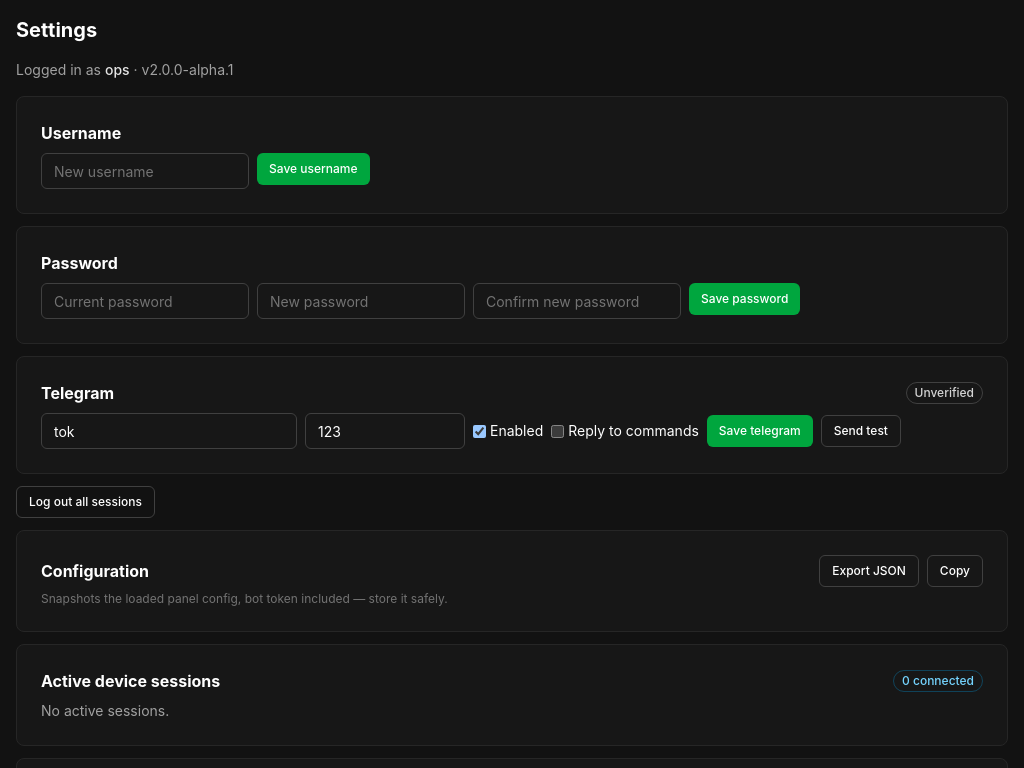
web settings page › toasts saves and parks server sections as dummies
Type "ops2" into the field with placeholder "New username" at (145, 171), box [41,153,249,189]
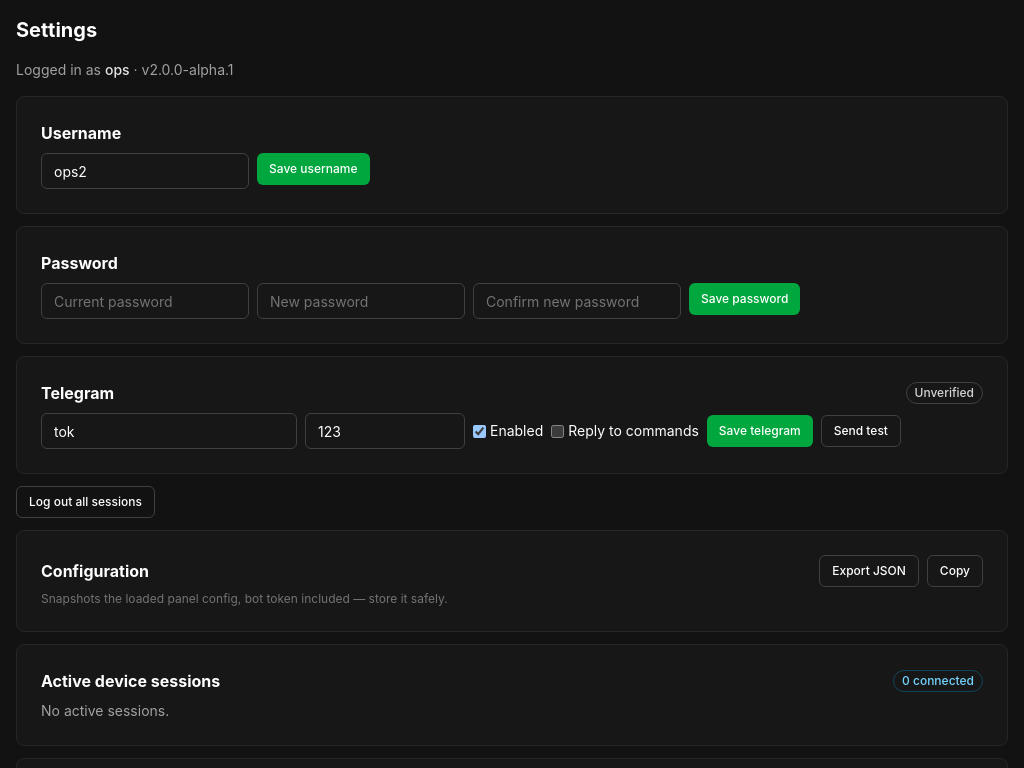
Click the button "Save username" at (313, 169), box [257,153,370,185]
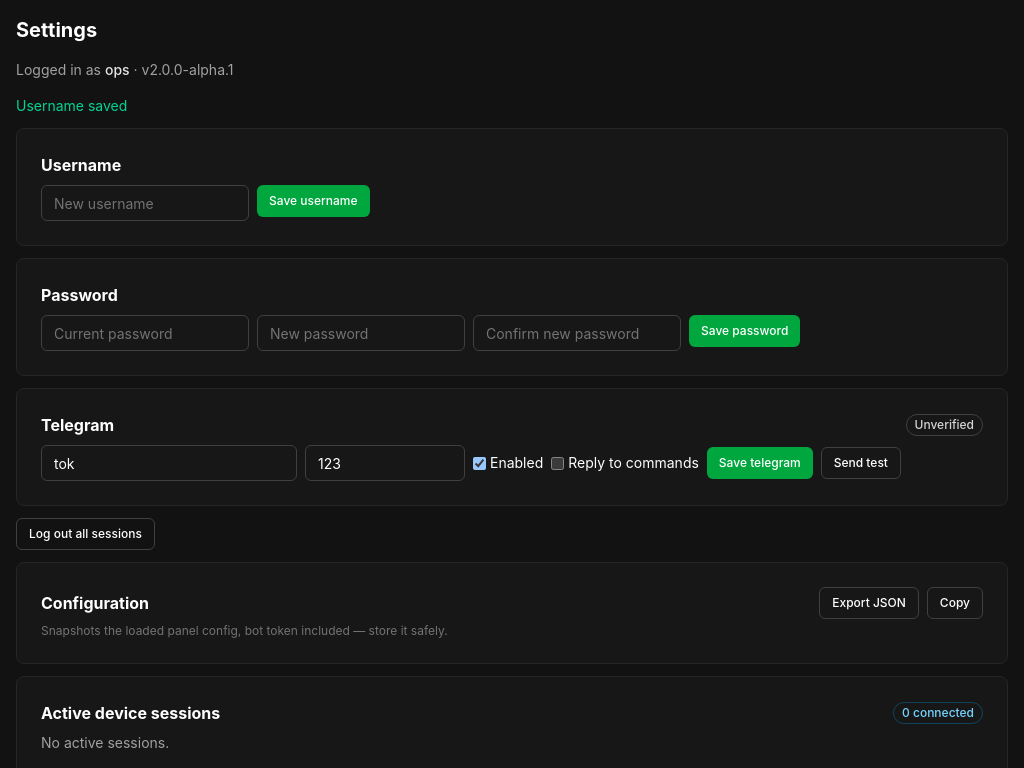
Check: the message reads "Username saved", box [16,97,127,114]
Click the button "Save telegram" at (760, 463), box [707,447,813,479]
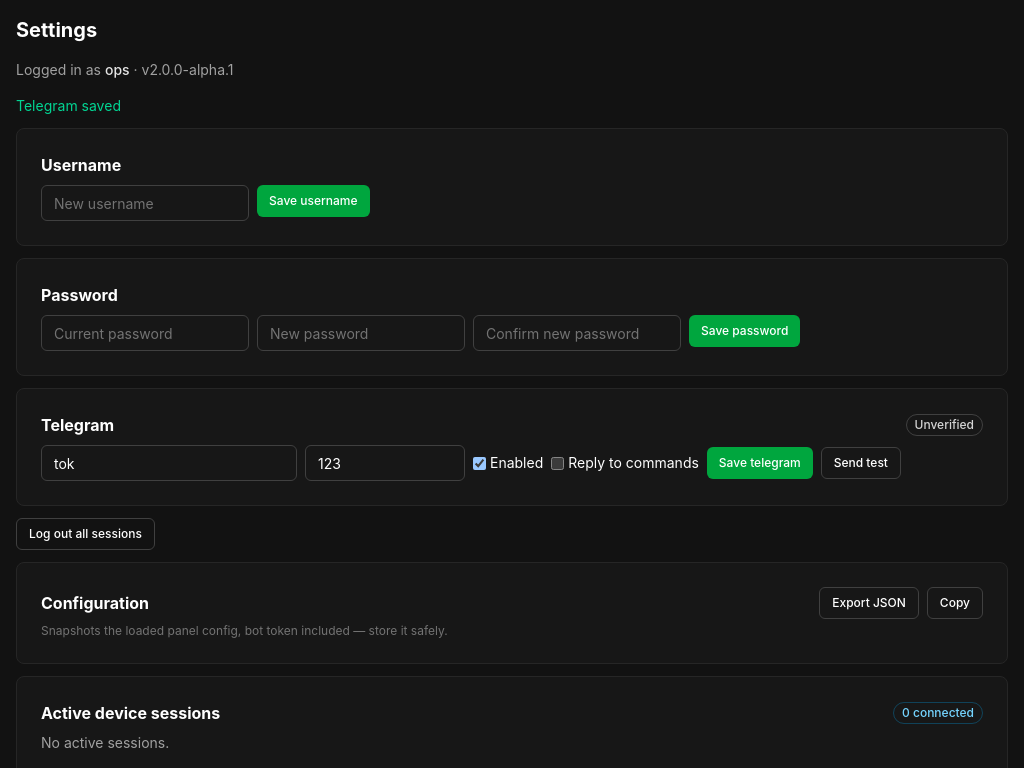
Check: the button "Export JSON" is shown, box [819,587,919,619]
Check: the message reads "Telegram saved", box [16,97,121,114]
